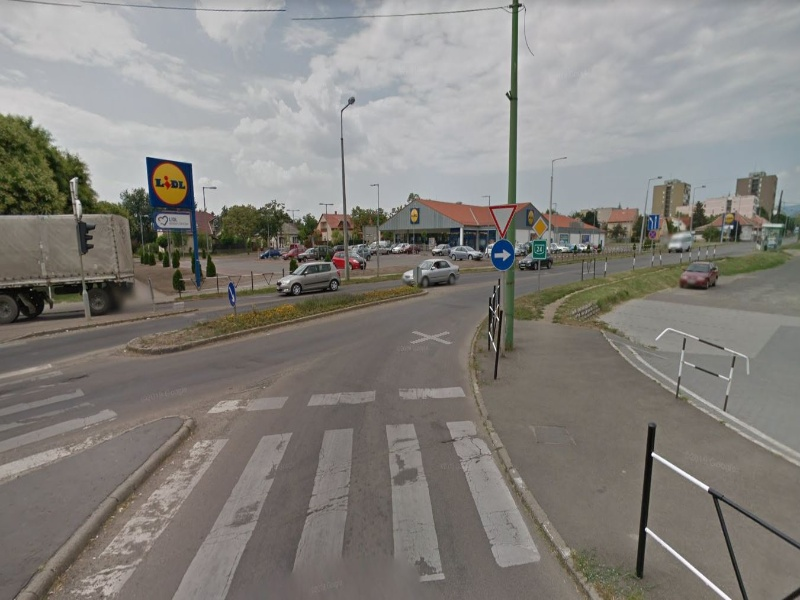elsobbseg: (490, 203, 515, 234)
